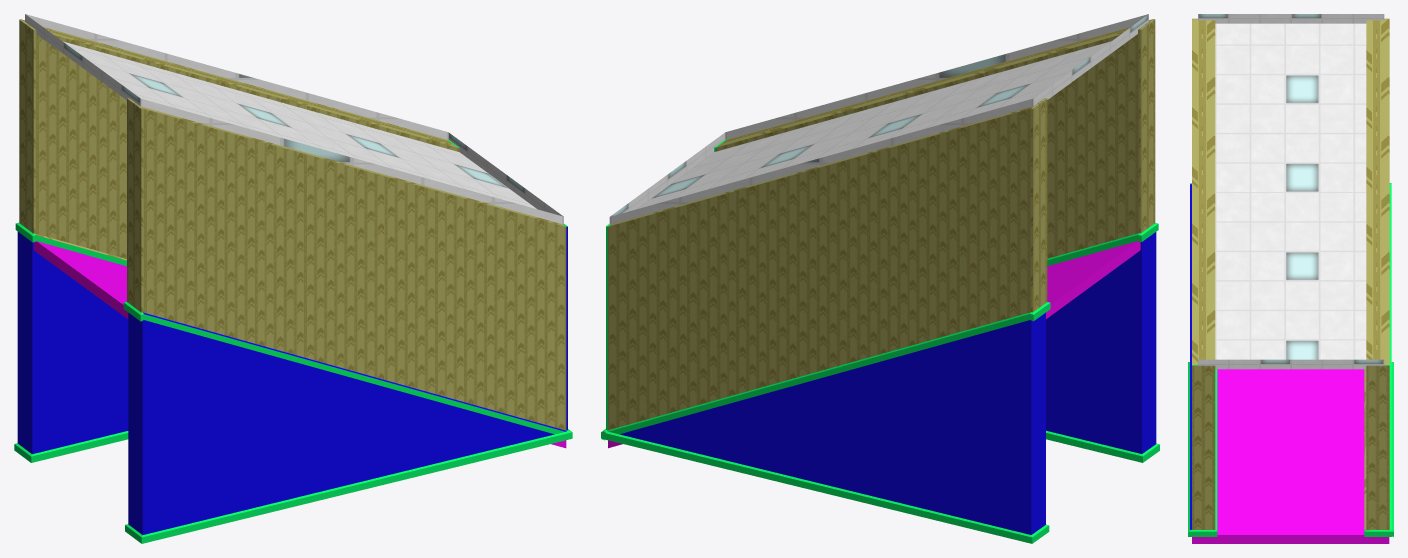
Rendered from stairs.fbx.
3 renders of one model, left to right at view 1: azimuth 30°, elevation 25°; view 2: azimuth 150°, elevation 25°; view 3: azimuth 270°, elevation 25°, orthographic. The views are drawn at different scales.
Visible parts, largest first — view 1: Wall002, Wall009, Wall008, stairCase001, Wall010, stairCase; view 2: Wall008, Wall010, Wall002, stairCase001, Wall009, stairCase; view 3: stairCase001, stairCase, Wall008, Wall002, Wall010, Wall009.
Boxes of the visible parts, x1,y1,x2,y2 form: Wall002: [123, 98, 568, 434]; Wall009: [125, 312, 572, 543]; Wall008: [15, 19, 459, 266]; stairCase001: [25, 14, 563, 224]; Wall010: [14, 231, 128, 462]; stairCase: [33, 241, 566, 448]; Wall008: [602, 98, 1050, 434]; Wall010: [601, 312, 1049, 543]; Wall002: [714, 19, 1158, 266]; stairCase001: [609, 14, 1148, 224]; Wall009: [1046, 232, 1159, 462]; stairCase: [608, 241, 1140, 448]; stairCase001: [1198, 14, 1384, 369]; stairCase: [1192, 369, 1389, 543]; Wall008: [1364, 18, 1391, 536]; Wall002: [1190, 18, 1217, 536]; Wall010: [1367, 362, 1393, 537]; Wall009: [1188, 362, 1215, 536].
Size of the model in its own units: 204 by 203 by 104.
